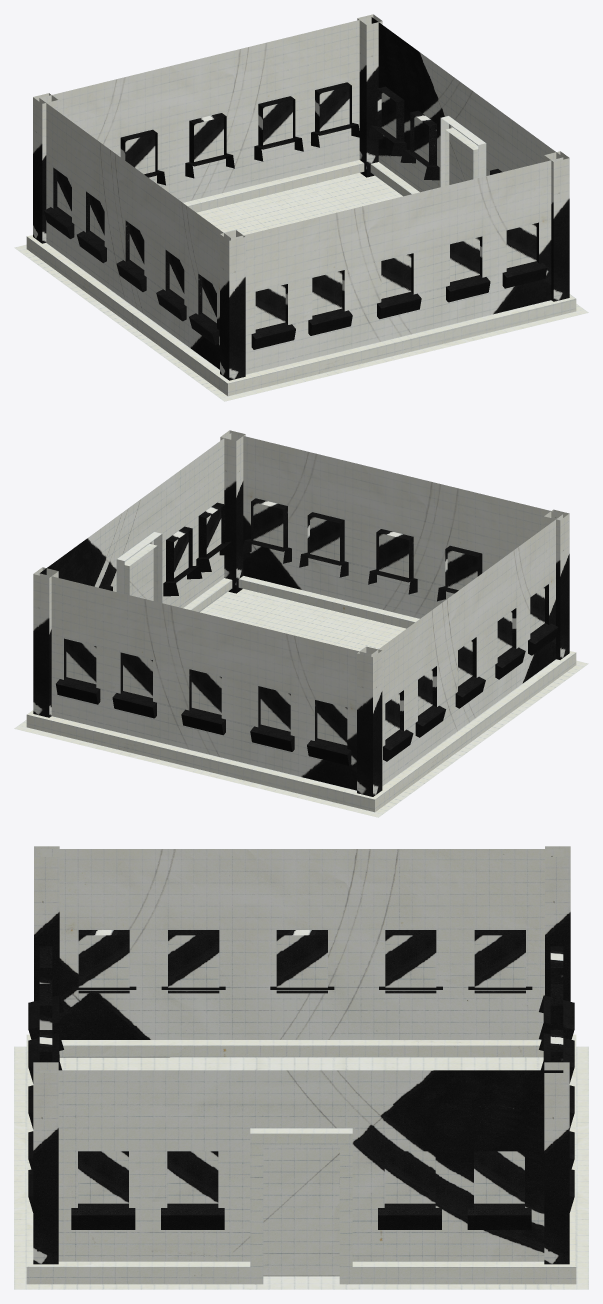
File: buildingbase.fbx
The picture shows the model from 3 angles, top to bottom: view 1: azimuth 30°, elevation 25°; view 2: azimuth 150°, elevation 25°; view 3: azimuth 270°, elevation 25°; orthographic projection. The views are drawn at different scales.
Parts seen in each view (by area): view 1: Plane.003; view 2: Plane.003; view 3: Plane.003.
Boxes of the visible parts, x1=… form: Plane.003: x1=14, y1=14, x2=588, y2=401; Plane.003: x1=14, y1=430, x2=588, y2=817; Plane.003: x1=14, y1=846, x2=588, y2=1289.
Size of the model in its own units: 4500 by 1800 by 4500.
